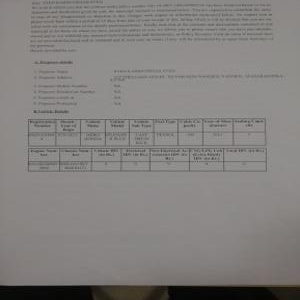table: (29, 118, 269, 146), (28, 146, 268, 173)
text: (28, 1, 277, 52), (29, 59, 284, 107)
